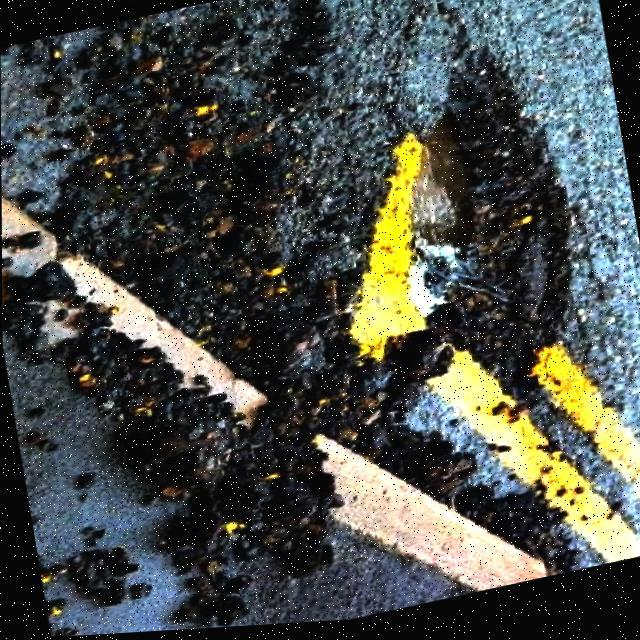pothole: (364, 38, 604, 427)
